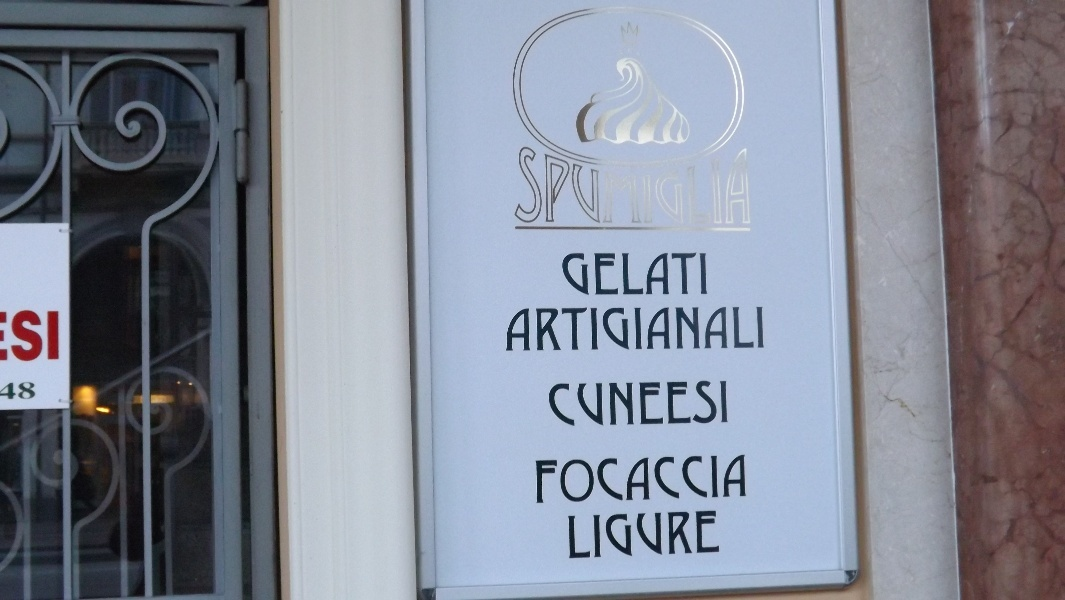text: (737, 147, 753, 226), (529, 147, 544, 226), (545, 147, 560, 226), (561, 147, 576, 226), (577, 147, 592, 226), (593, 147, 608, 226), (609, 147, 624, 226), (625, 147, 640, 226), (641, 147, 656, 226), (657, 147, 672, 226), (673, 147, 688, 226), (689, 147, 704, 226), (705, 147, 720, 226), (721, 147, 736, 226), (17, 308, 32, 363), (33, 308, 48, 363), (705, 510, 721, 561), (518, 147, 528, 226), (545, 453, 560, 505), (561, 453, 576, 505), (577, 453, 592, 505), (593, 453, 608, 505), (609, 453, 624, 505), (625, 453, 640, 505), (641, 453, 656, 505), (657, 453, 672, 505), (673, 453, 688, 505), (689, 453, 704, 505), (705, 453, 720, 505), (721, 453, 736, 505), (577, 510, 592, 561), (593, 510, 608, 561), (609, 510, 624, 561), (625, 510, 640, 561), (641, 510, 656, 561), (657, 510, 672, 561), (673, 510, 688, 561), (689, 510, 704, 561), (529, 304, 544, 354), (545, 304, 560, 354), (561, 304, 576, 354), (577, 304, 592, 354), (593, 304, 608, 354), (609, 304, 624, 354), (625, 304, 640, 354), (641, 304, 656, 354), (657, 304, 672, 354), (673, 304, 688, 354), (689, 304, 704, 354), (705, 304, 720, 354), (721, 304, 736, 354), (737, 304, 752, 354), (514, 304, 528, 354), (561, 381, 576, 427), (577, 381, 592, 427), (593, 381, 608, 427), (609, 381, 624, 427), (625, 381, 640, 427), (641, 381, 656, 427), (657, 381, 672, 427), (673, 381, 688, 427), (689, 381, 704, 427), (705, 381, 720, 427), (49, 308, 61, 363), (577, 253, 592, 297), (593, 253, 608, 297), (609, 253, 624, 297), (625, 253, 640, 297), (641, 253, 656, 297), (657, 253, 672, 297), (673, 253, 688, 297), (689, 253, 704, 297), (753, 304, 766, 354), (737, 453, 748, 505), (548, 381, 560, 427), (565, 253, 576, 297), (535, 453, 544, 505), (567, 510, 576, 561), (721, 381, 730, 427), (1, 383, 16, 402), (17, 383, 32, 402), (705, 253, 709, 297), (13, 308, 16, 363), (33, 383, 36, 402)
